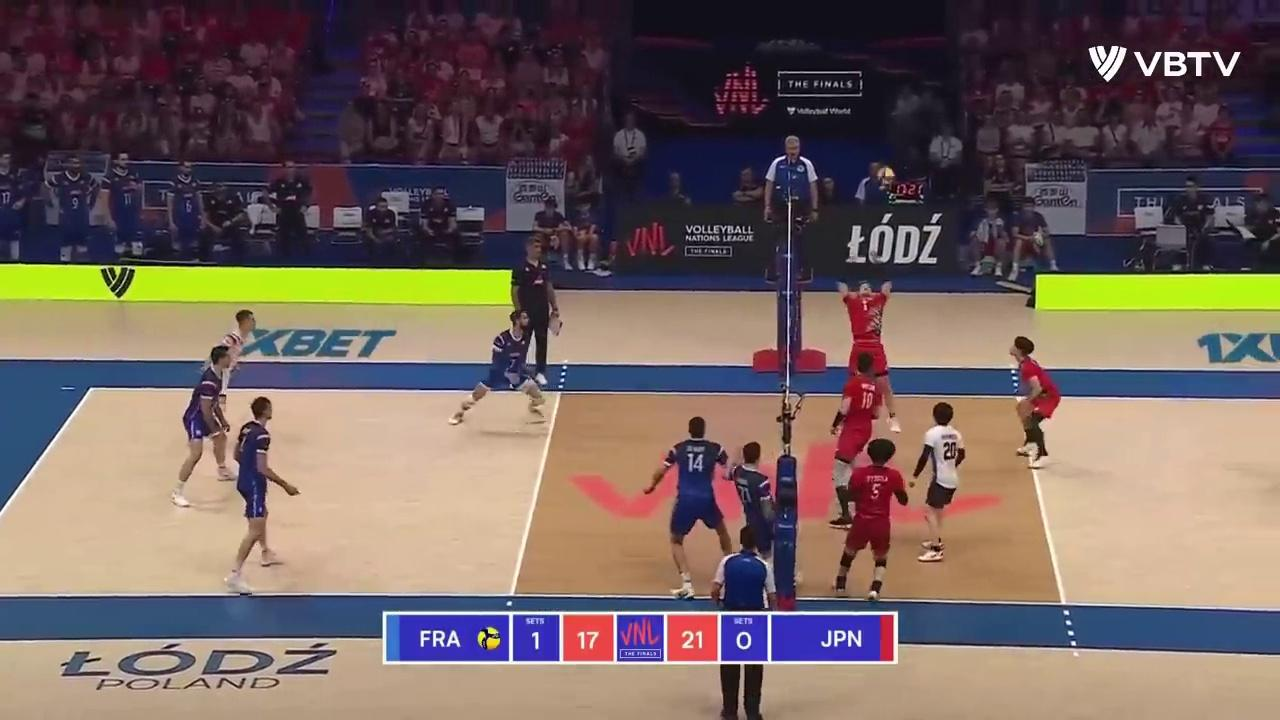ball: (876, 165, 894, 185)
